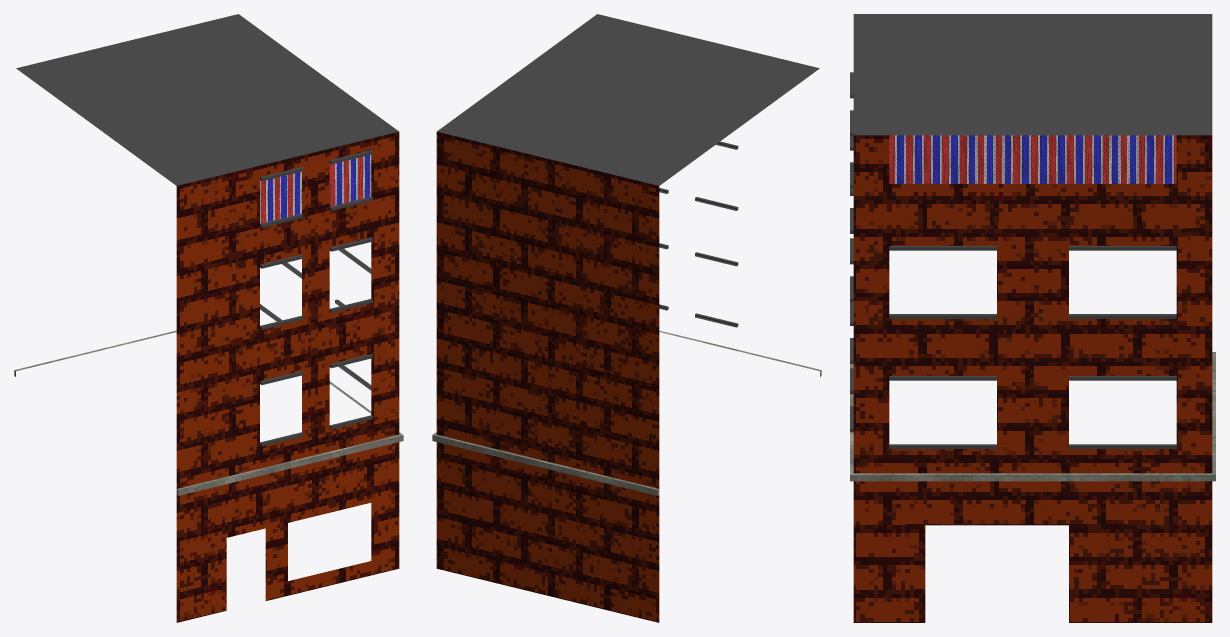
The model's file is TravelAgency.glb.
3 views of the same model, side by side, from view 1: azimuth 30°, elevation 25°; view 2: azimuth 150°, elevation 25°; view 3: azimuth 270°, elevation 25° (orthographic). The views are drawn at different scales.
Parts seen in each view (by area): view 1: TravelAgency; view 2: TravelAgency; view 3: TravelAgency.
Part boxes in pixels (bbox=[...]): TravelAgency: bbox=[14, 14, 403, 622]; TravelAgency: bbox=[432, 14, 821, 622]; TravelAgency: bbox=[850, 14, 1215, 622].
Bounding box in the file's own units: 8.1 × 15 × 10.2.
4 materials, 3 textured.
